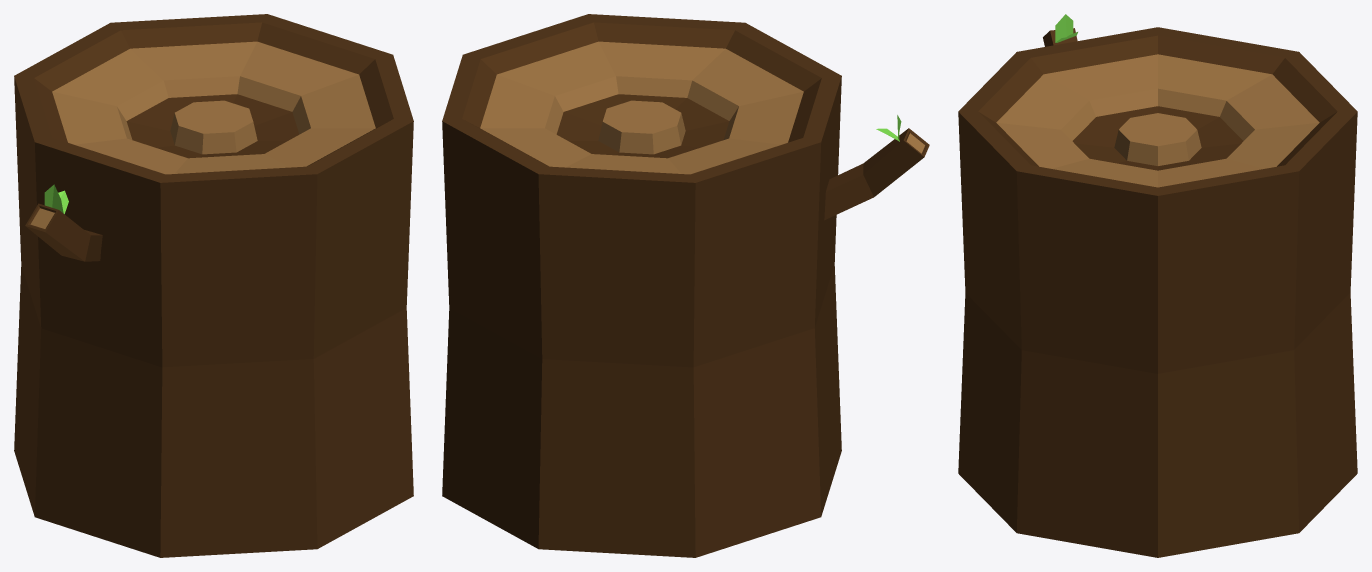
The model's file is Low_Poly_Wood_Log.fbx.
3 views of the same model, side by side, from view 1: azimuth 30°, elevation 25°; view 2: azimuth 150°, elevation 25°; view 3: azimuth 270°, elevation 25° (orthographic). The views are drawn at different scales.
Visible parts, largest first — view 1: Cylinder, Cube; view 2: Cylinder, Cube; view 3: Cylinder.
Part boxes in pixels (x1=…): Cylinder: x1=14, y1=14, x2=413, y2=557; Cube: x1=25, y1=203, x2=102, y2=261; Cylinder: x1=442, y1=14, x2=841, y2=557; Cube: x1=824, y1=128, x2=929, y2=220; Cylinder: x1=958, y1=27, x2=1357, y2=557.
Bounding box in the file's own units: 232 × 200 × 200.
